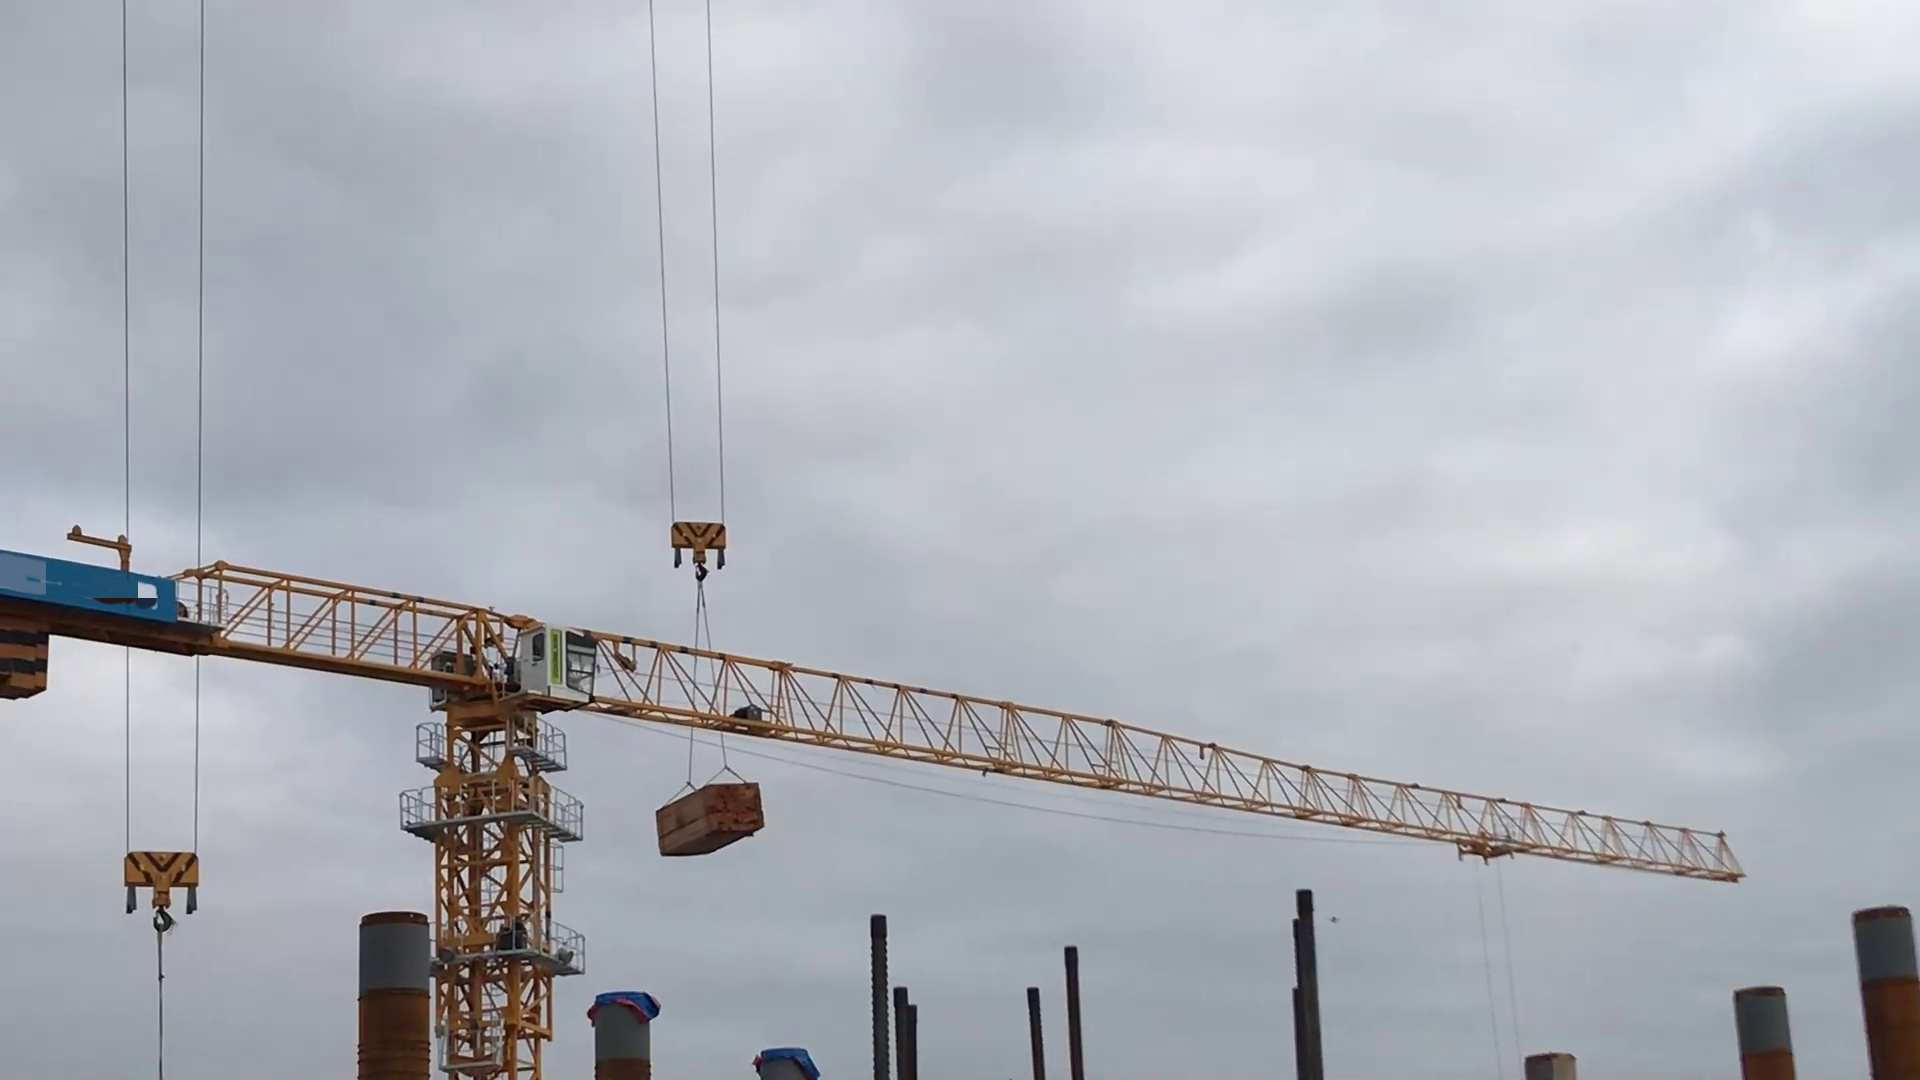hook: (665, 516, 738, 584)
wood: (645, 773, 774, 866)
